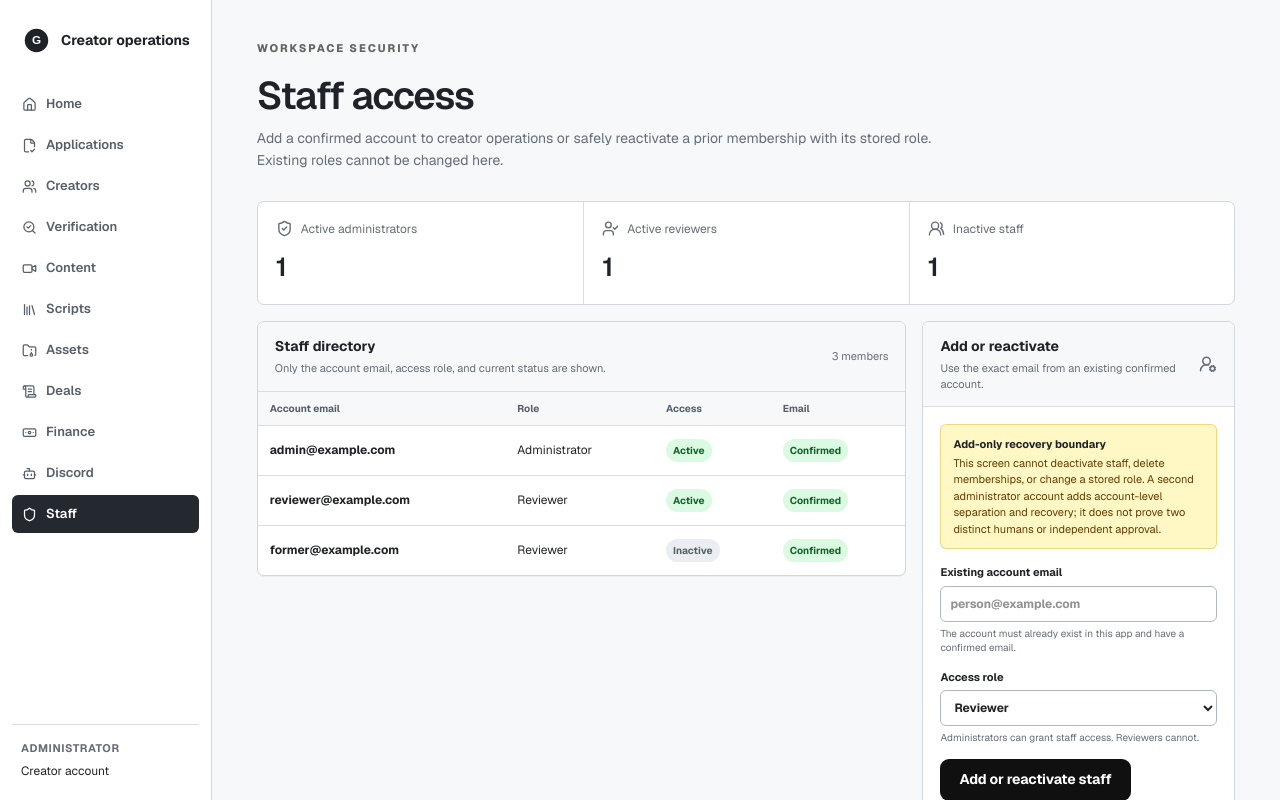
admin staff page › does not claim success when the response belongs to a different request
The image size is (1280, 800).
Type "staff@example.com" into the field labelled "Existing account email". click: [1079, 604]
box: [940, 586, 1217, 622]
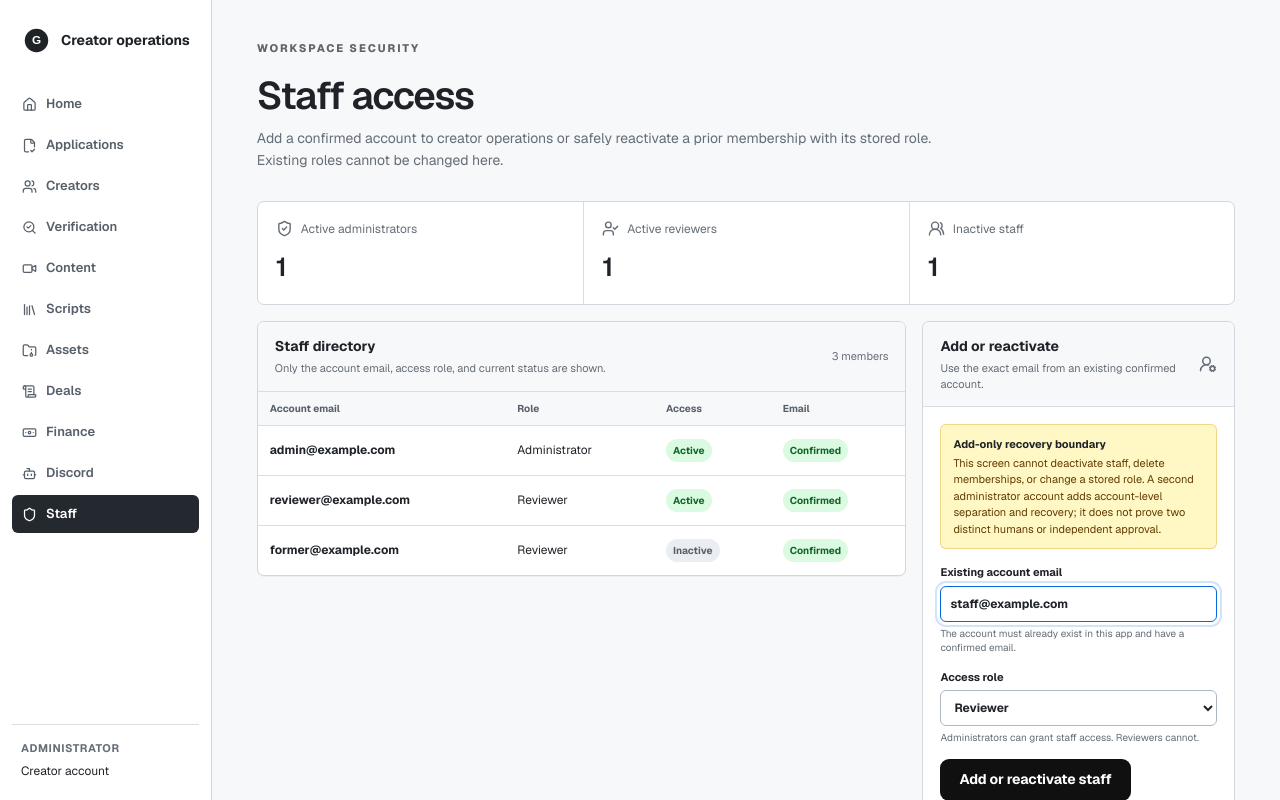
Click the button "Add or reactivate staff". click: [1036, 780]
box: [940, 759, 1131, 799]
(page scrolled)
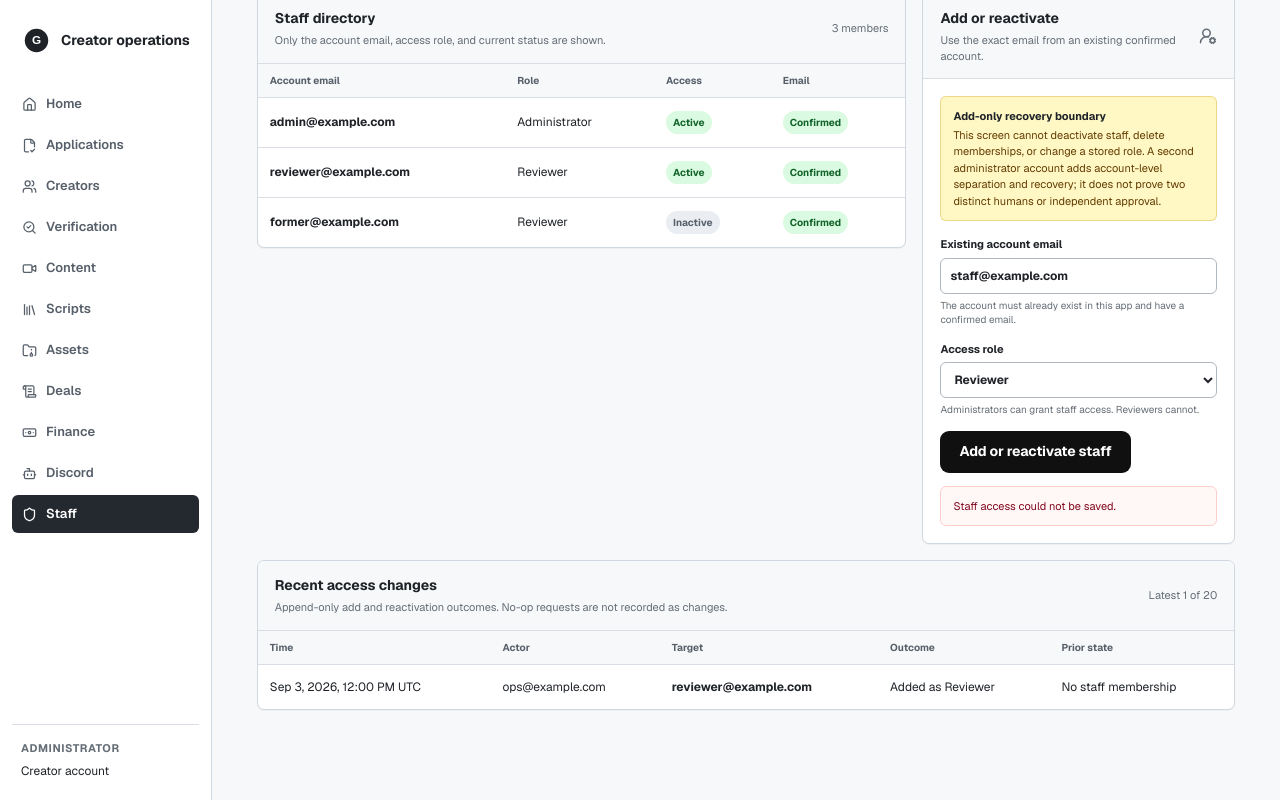
Check: the message shows "could not be saved", box [953, 499, 1116, 513]
